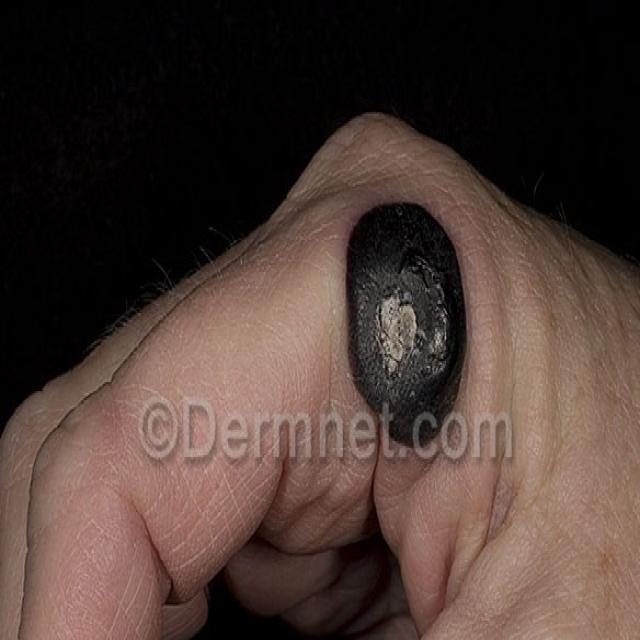Warts: (0, 192, 346, 403), (453, 401, 471, 442)
